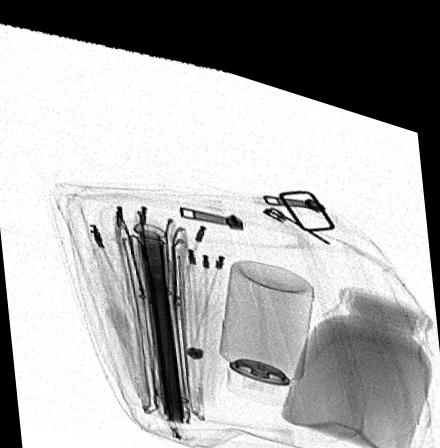Sprayer: (218, 243, 315, 388)
